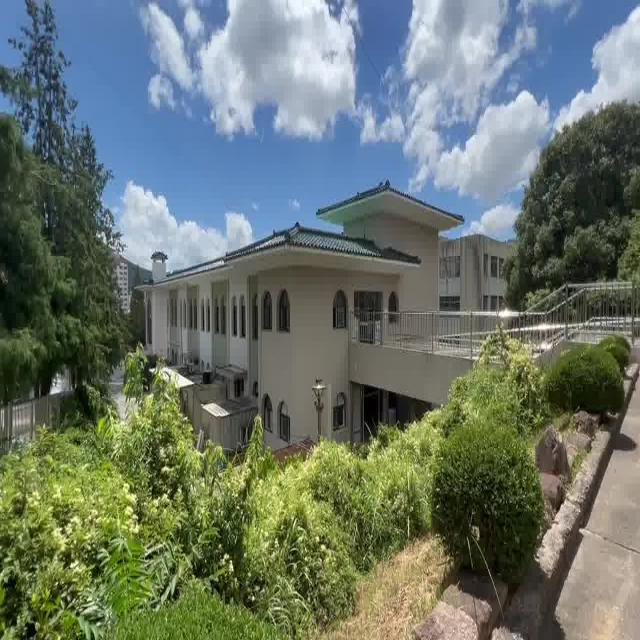building: (160, 181, 463, 376)
